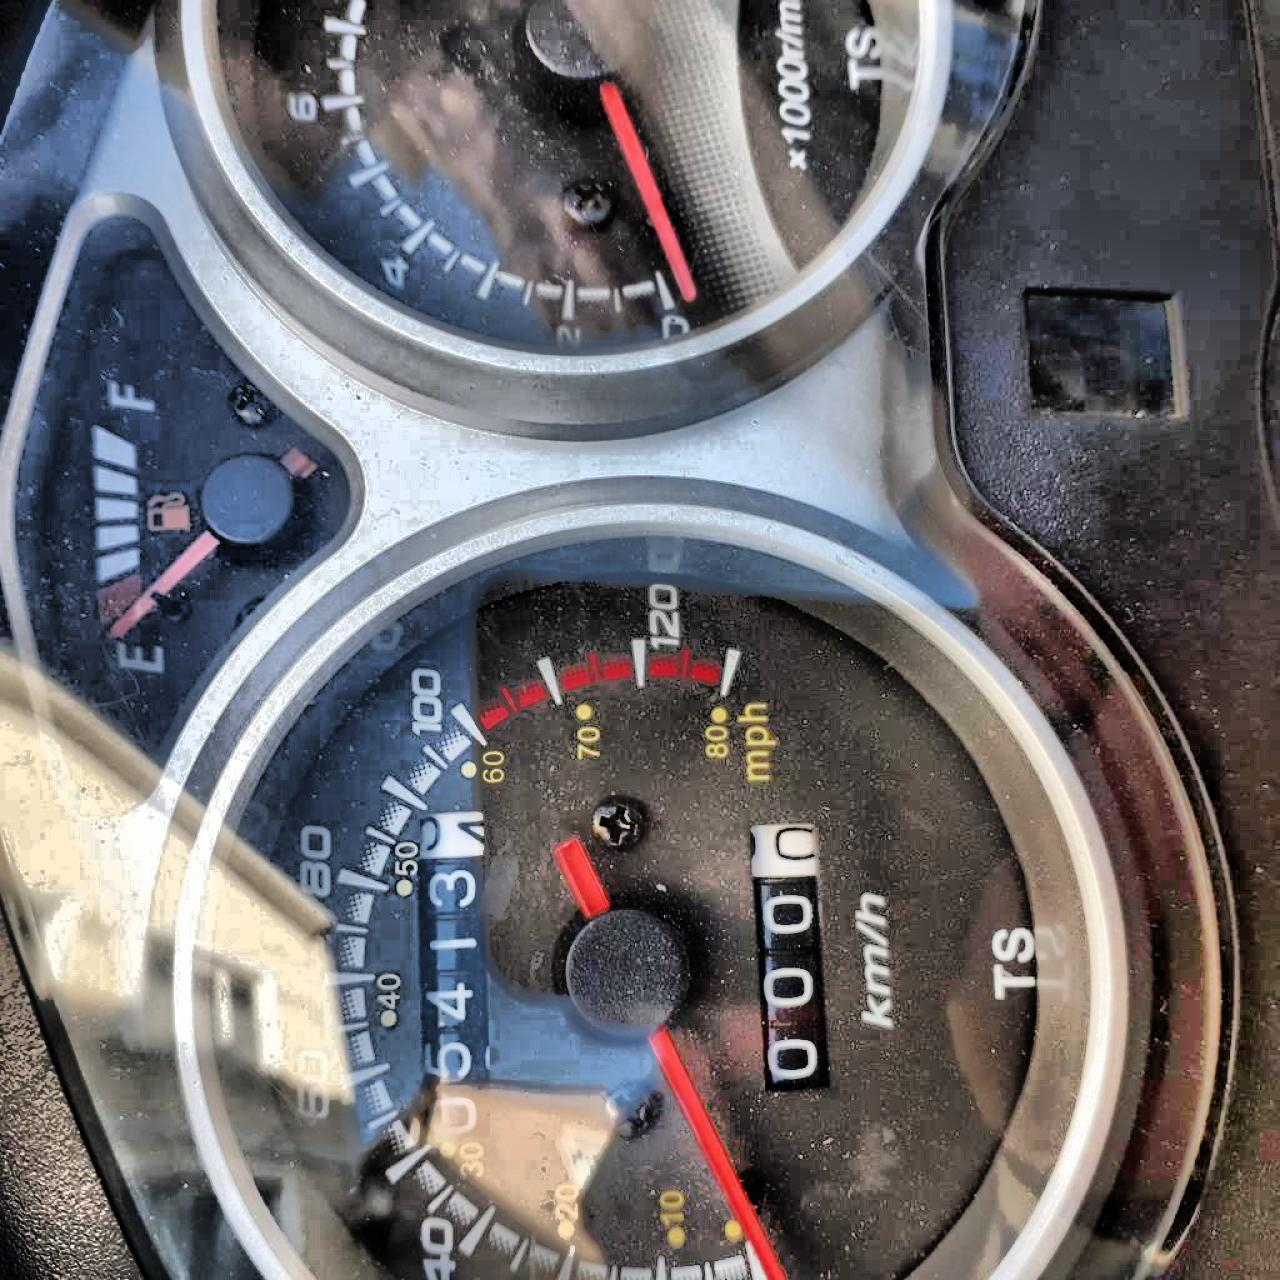0: (428, 1094, 477, 1133)
1: (425, 934, 476, 949)
3: (425, 866, 475, 907)
4: (425, 980, 472, 1020), (454, 815, 495, 847)
5: (421, 1040, 471, 1080)
odometer: (415, 805, 489, 1146)
